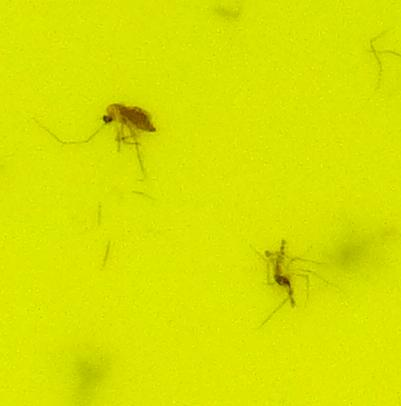Nematocera: (100, 100, 161, 144), (268, 246, 301, 306)
